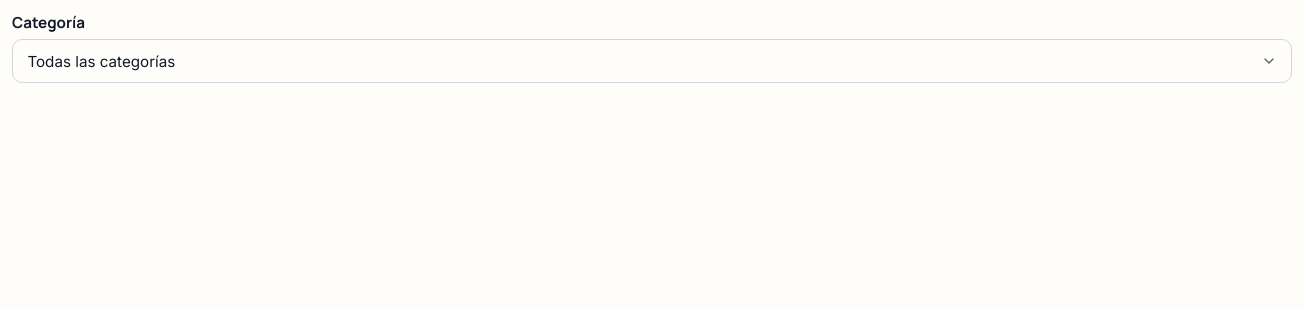
Test: CategorySelect › agrupa General y ACTIVITY; pagina sin truncar y envía nombre
Later steps or results of the test are not shown.
Click the dropdown labelled "categoría" at [101, 61], box x1=12 y1=39 x2=1292 y2=83
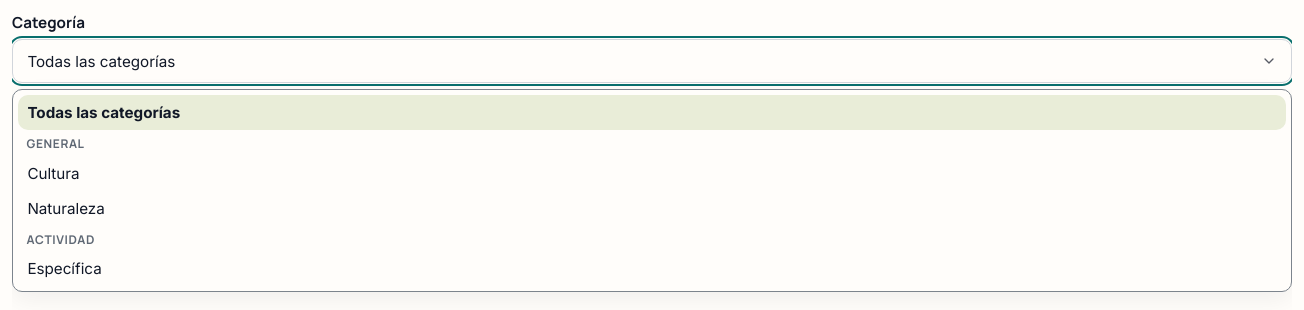
Now the option "Cultura" is shown, box x1=27 y1=164 x2=80 y2=183
Now the element "Actividad" is shown, box x1=27 y1=231 x2=102 y2=278
